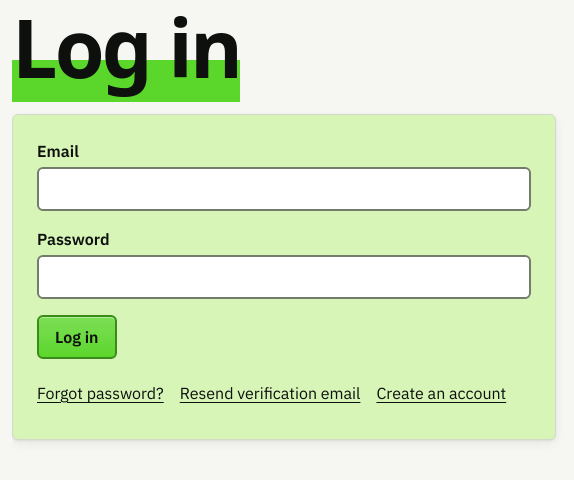
Test case: the outcomes › a suspended company: shows the message and stays on the page
Type "owner@example.test" into the field labelled "Email" at (284, 189), box [37,167,531,211]
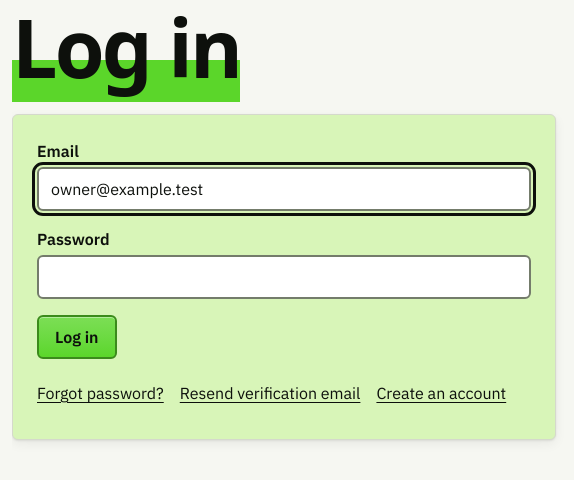
Type "the-right-password-1" into the password field labelled "Password" at (284, 277), box [37,255,531,299]
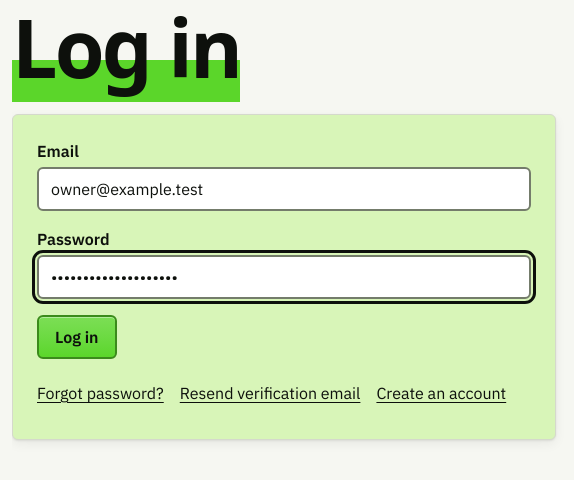
Click the button "Log in" at (77, 337), box [37,315,116,359]
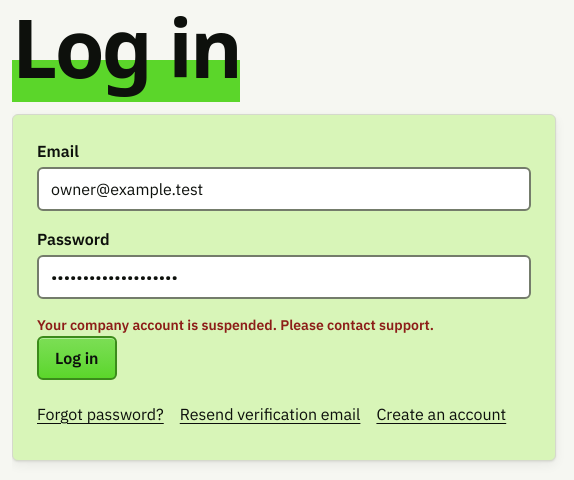
Now the message reads "Your company account is suspended. Please contact support.", box [37,316,434,334]
